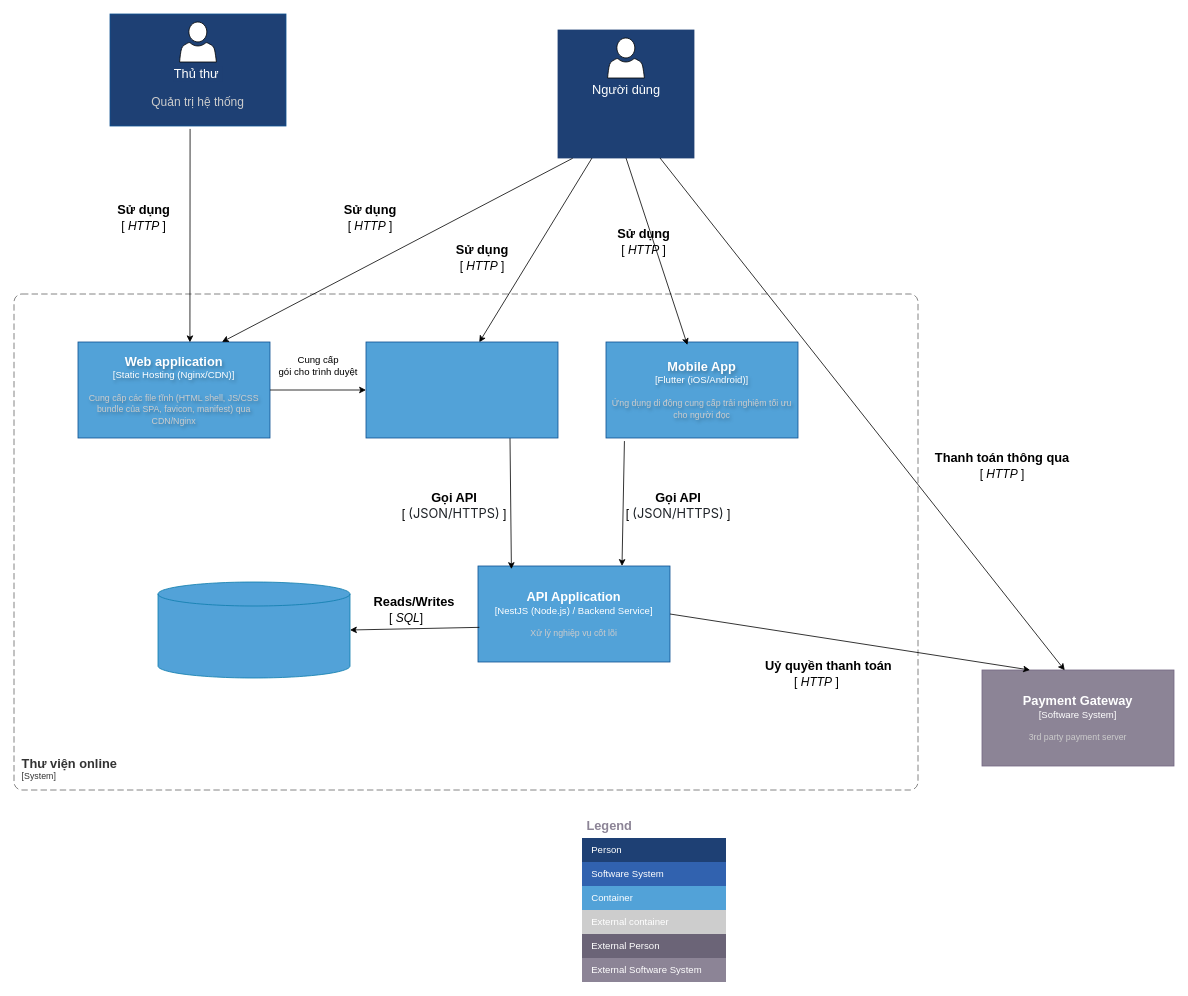
This 1188x996 diagram has some shape labels left out. Each missing label, with the box of its shape:
[] Tìm kiếm sách, mượn sách online, gia hạn, xem lịch sử mượn.: (557, 29, 694, 158)
Database [Container: PostgreSQL] Lưu trữ dữ liệu quan hệ: (157, 581, 350, 678)
SPA [ReactJS (Browser)] Thực thi toàn bộ chức năng phía client trong trình duyệt: (365, 341, 558, 438)
